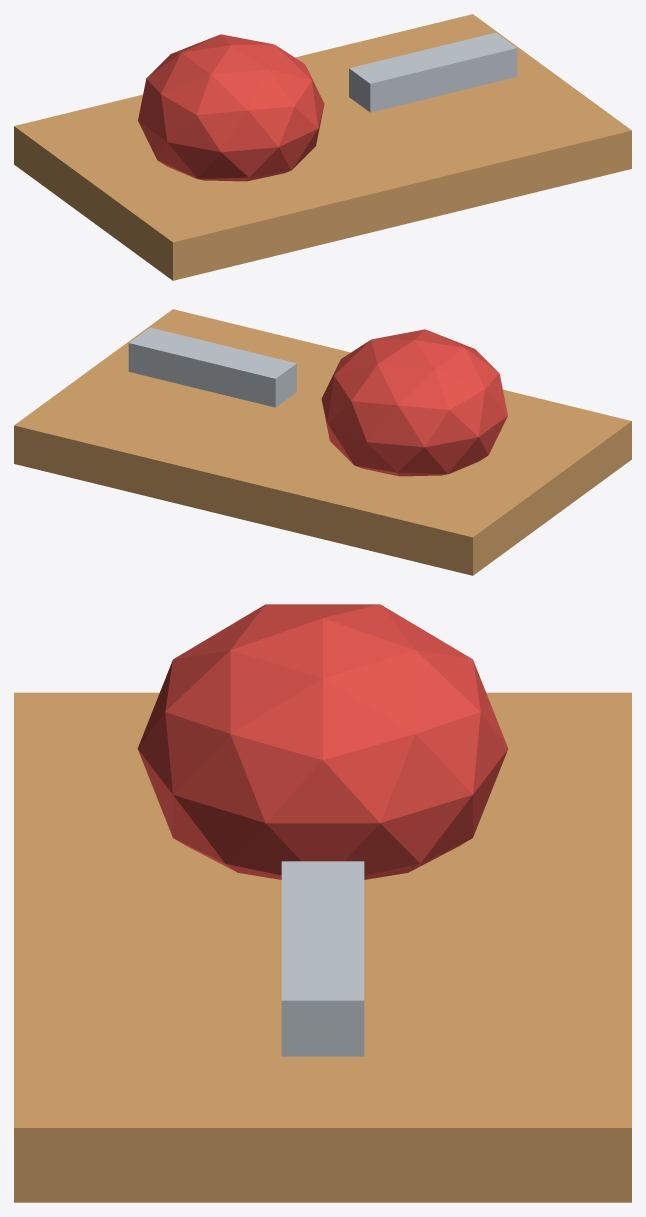
File: Kitchen_CuttingBoard.fbx
3 views of the same model, one above another, from view 1: azimuth 30°, elevation 25°; view 2: azimuth 150°, elevation 25°; view 3: azimuth 270°, elevation 25° (orthographic). The views are drawn at different scales.
Parts seen in each view (by area): view 1: CuttingBoard; view 2: CuttingBoard; view 3: CuttingBoard.
Part boxes in pixels (x1,y1,x2,y2): CuttingBoard: (14,14,631,280); CuttingBoard: (14,309,631,575); CuttingBoard: (14,604,631,1202).
Size of the model in its own units: 0.5 by 0.15 by 0.3.
